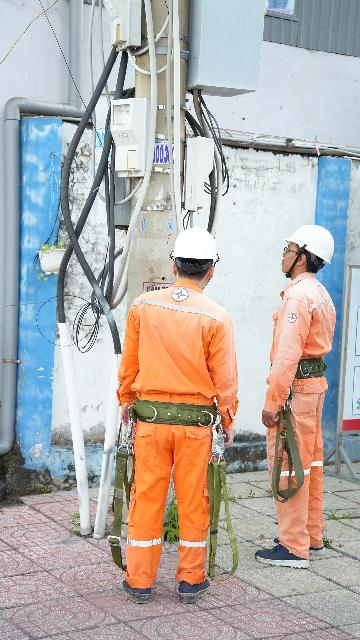harness: (126, 390, 227, 434), (261, 353, 330, 382)
helmet: (281, 218, 344, 271), (163, 227, 233, 272)
shoes: (107, 569, 161, 608), (253, 539, 308, 575), (272, 532, 327, 562), (172, 574, 221, 604)
